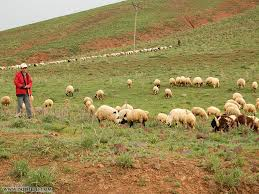sheep: (166, 107, 197, 133), (95, 104, 122, 126), (211, 112, 233, 135), (120, 109, 149, 126), (191, 105, 210, 125), (241, 101, 256, 122), (233, 116, 259, 128), (225, 103, 241, 120), (205, 75, 220, 91), (207, 104, 222, 120), (231, 92, 243, 110), (237, 76, 247, 95), (64, 86, 76, 101), (224, 97, 236, 112), (95, 89, 107, 102), (159, 112, 171, 125), (40, 99, 54, 110), (84, 101, 96, 113), (184, 75, 193, 90), (122, 106, 136, 115), (193, 77, 202, 91), (112, 105, 123, 116), (1, 95, 11, 107), (249, 79, 259, 90), (162, 88, 171, 100), (167, 77, 176, 89), (177, 74, 185, 87), (150, 86, 160, 96), (83, 96, 95, 103), (127, 78, 133, 90), (175, 78, 181, 89), (153, 78, 160, 87)
